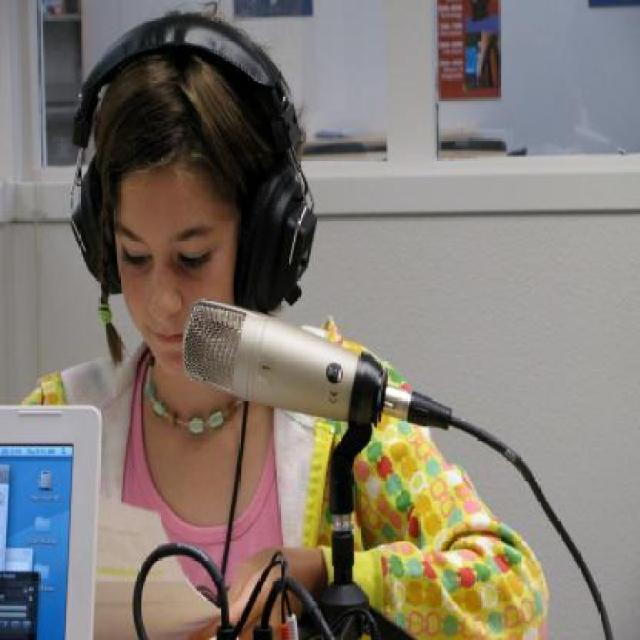earphone: (55, 20, 385, 302)
laptop_computer: (0, 363, 121, 640)
